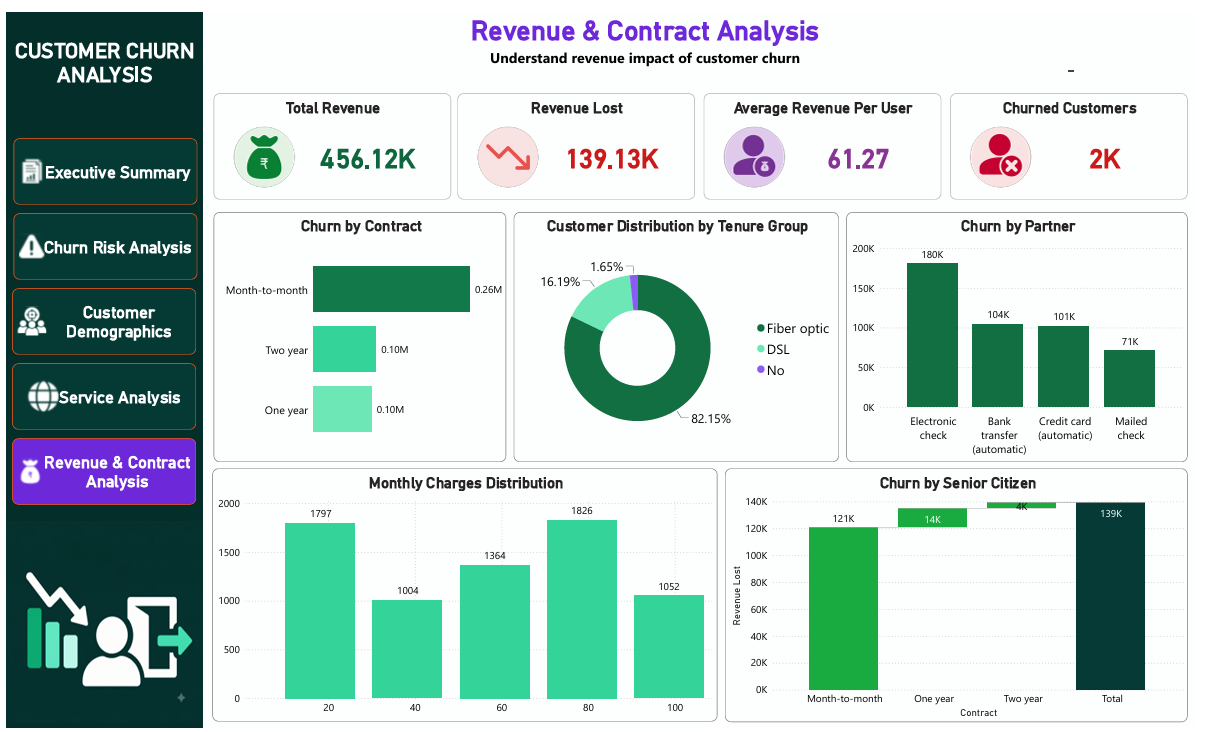

Layout of this report page (visuals, bound fields, positions):
{"tool":"powerbi","page":{"name":"Revenue & Contract Analysis","canvas":[1900,1145],"ordinal":4},"visuals":[{"type":"shape","box":[0,0,315,1400],"z":0,"group":"g1"},{"type":"cardVisual","title":"Total Revenue","fields":{"Data":["Measure_tbl.Total Revnue"]},"box":[332,130,380,170],"z":0},{"type":"cardVisual","title":"Revenue Lost","fields":{"Data":["Measure_tbl.Revenue Lost"]},"box":[722,130,380,170],"z":1000},{"type":"actionButton","box":[12,202,294,106],"z":1000,"group":"g1"},{"type":"cardVisual","title":"Average Revenue Per User","fields":{"Data":["Measure_tbl.Average Revenue Per User"]},"box":[1116,130,380,170],"z":2000},{"type":"actionButton","box":[12,322,294,106],"z":2000,"group":"g1"},{"type":"cardVisual","title":"Churned Customers","fields":{"Data":["Measure_tbl.Churn Customers"]},"box":[1510,130,380,170],"z":3000},{"type":"actionButton","box":[10,442,294,106],"z":3000,"group":"g1"},{"type":"actionButton","box":[10,562,294,106],"z":4000,"group":"g1"},{"type":"waterfallChart","title":"Churn by Senior Citizen","fields":{"Category":["DimContract.Contract"],"Y":["Measure_tbl.Revenue Lost"]},"box":[1150,730,740,406],"z":4000},{"type":"clusteredBarChart","title":"Churn by Contract","fields":{"Y":["Measure_tbl.Total Revnue"],"Category":["DimContract.Contract"]},"box":[332,320,468,400],"z":5000},{"type":"actionButton","box":[10,682,294,106],"z":5000,"group":"g1"},{"type":"clusteredColumnChart","title":"Monthly Charges Distribution","fields":{"Category":["FactCustomer.MonthlyCharges (bins)"],"Y":["Measure_tbl.Total Customers"]},"box":[330,730,808,405],"z":6000},{"type":"textbox","title":"Revenue & Contract Analysis","box":[332,4,1380,96],"z":7000},{"type":"clusteredColumnChart","title":"Churn by Partner","fields":{"Y":["Measure_tbl.Total Revnue"],"Category":["DimPaymentMethod.PaymentMethod"]},"box":[1344,320,546,400],"z":8000},{"type":"donutChart","title":"Customer Distribution by Tenure Group","fields":{"Category":["DimService.InternetService"],"Y":["Measure_tbl.Revenue Lost"]},"box":[812,320,520,400],"z":9000},{"type":"group","id":"g1","title":"Group 2","box":[0,0,315,1400],"z":10000},{"type":"textbox","box":[0,38,316,116],"z":11000},{"type":"image","box":[0,815,314.5,322.5],"z":12000}]}

Visuals, with their boxes in screenshot pixels (x1, y1, x2, y2), scaled from the page's 1900x1145 canvas onto the 1205x732 screenshot:
shape: locate(0, 0, 200, 731)
"Total Revenue" cardVisual: locate(211, 83, 452, 192)
"Revenue Lost" cardVisual: locate(458, 83, 699, 192)
actionButton: locate(8, 129, 194, 197)
"Average Revenue Per User" cardVisual: locate(708, 83, 949, 192)
actionButton: locate(8, 206, 194, 274)
"Churned Customers" cardVisual: locate(958, 83, 1199, 192)
actionButton: locate(6, 283, 193, 350)
actionButton: locate(6, 359, 193, 427)
"Churn by Senior Citizen" waterfallChart: locate(729, 467, 1199, 726)
"Churn by Contract" clusteredBarChart: locate(211, 205, 507, 460)
actionButton: locate(6, 436, 193, 504)
"Monthly Charges Distribution" clusteredColumnChart: locate(209, 467, 722, 726)
"Revenue & Contract Analysis" textbox: locate(211, 3, 1086, 64)
"Churn by Partner" clusteredColumnChart: locate(852, 205, 1199, 460)
"Customer Distribution by Tenure Group" donutChart: locate(515, 205, 845, 460)
"Group 2" group: locate(0, 0, 200, 731)
textbox: locate(0, 24, 200, 98)
image: locate(0, 521, 199, 727)
